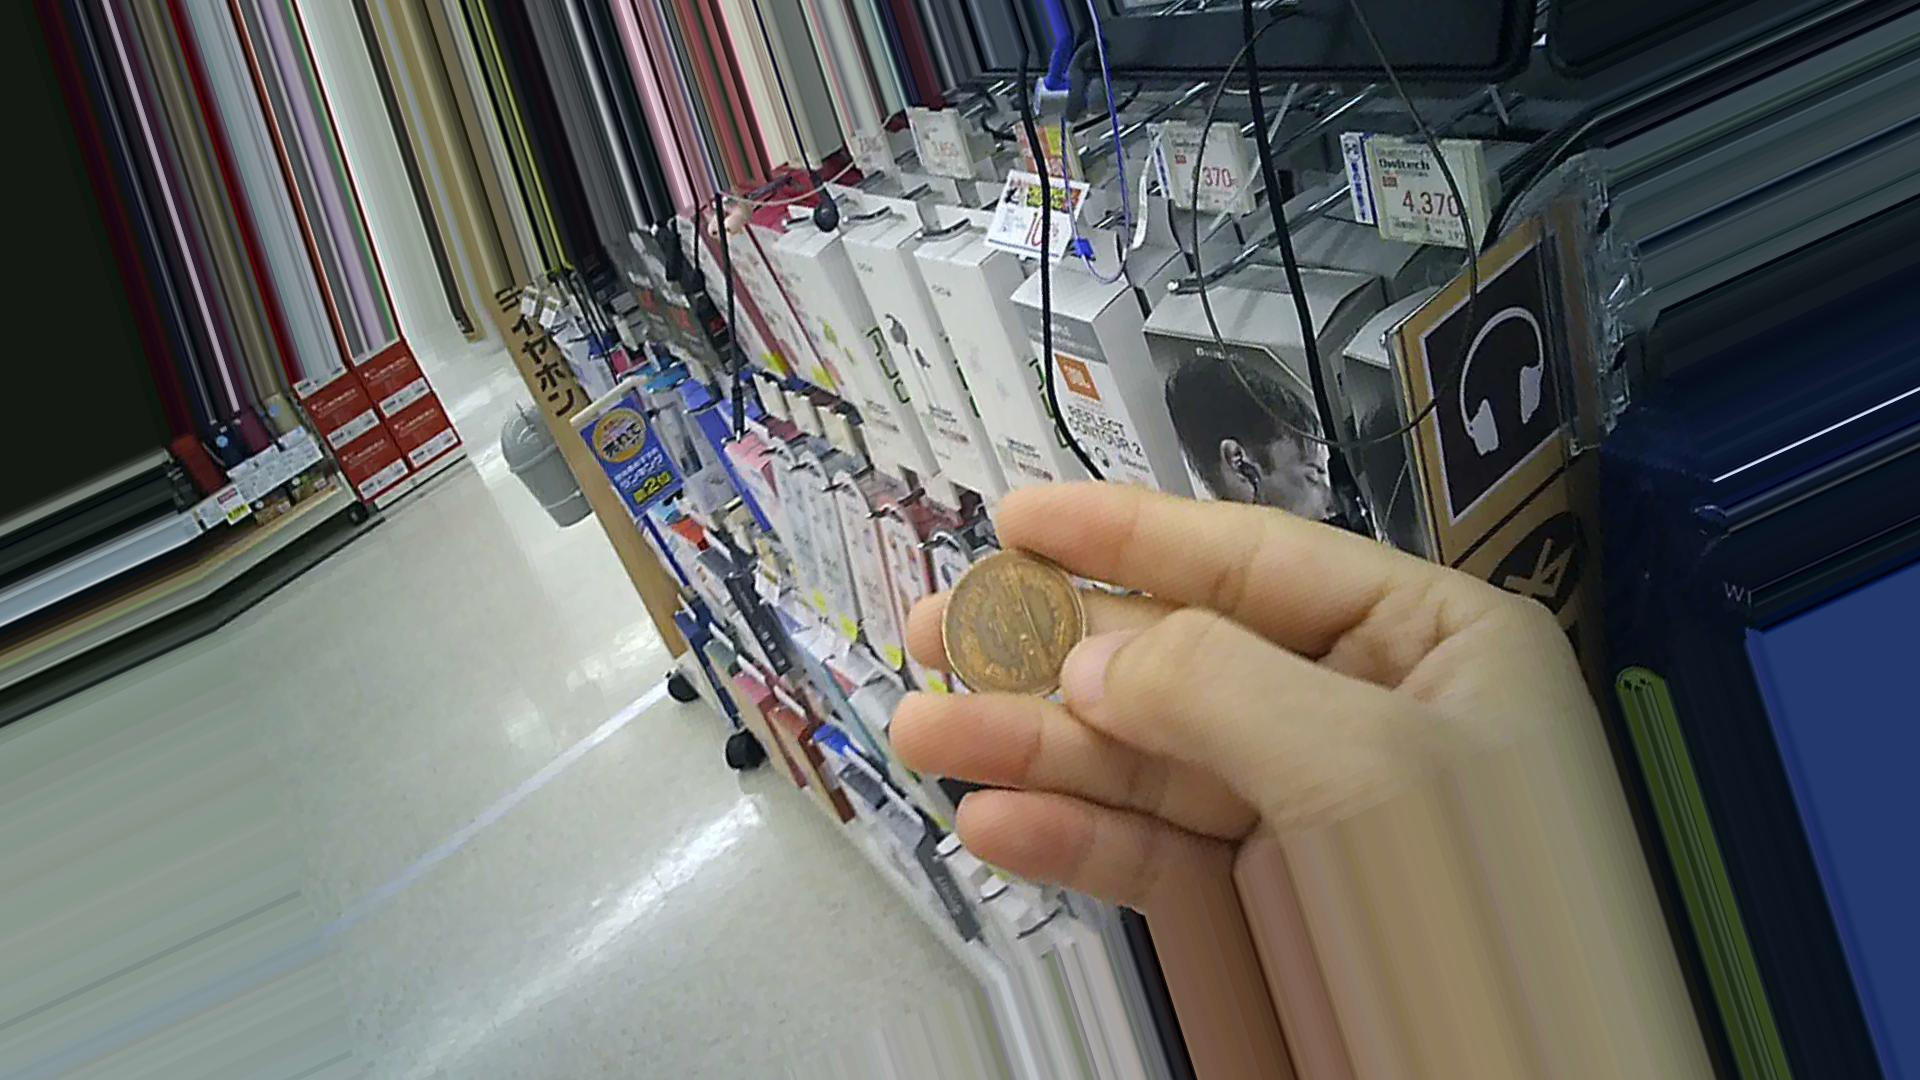10 Yen: (936, 538, 1093, 716)
